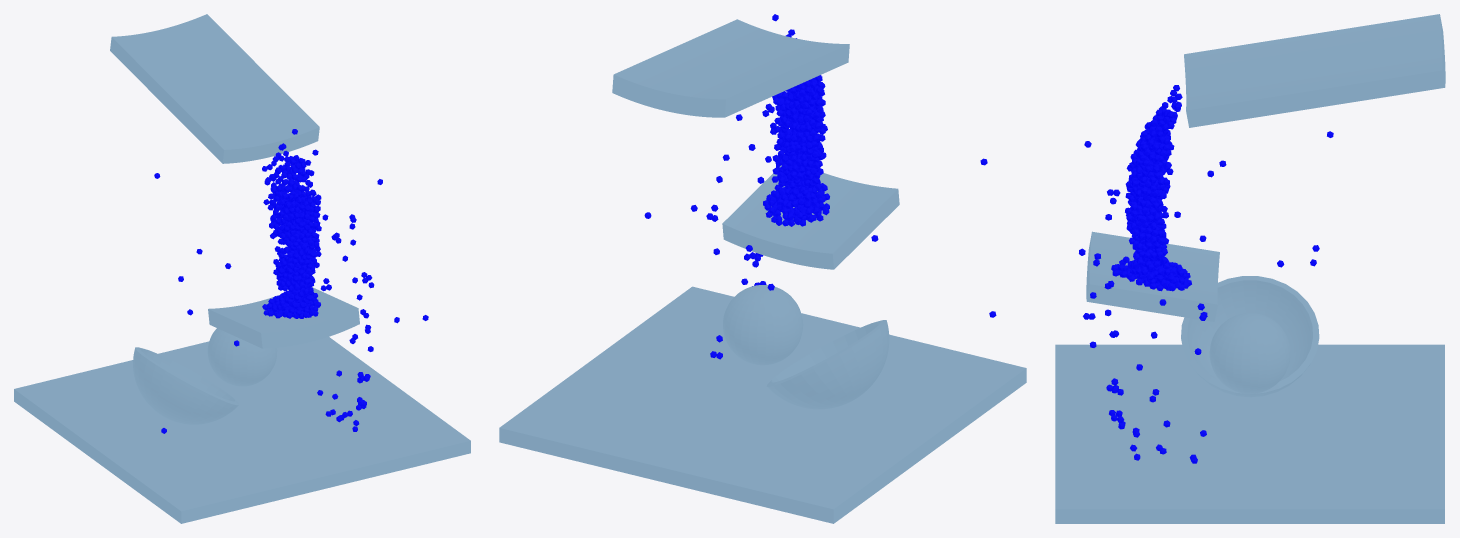
3 views of the same model, side by side, from view 1: azimuth 30°, elevation 25°; view 2: azimuth 150°, elevation 25°; view 3: azimuth 270°, elevation 25° (orthographic). The views are drawn at different scales.
Bounding box in the file's own units: 12 × 13.58 × 12.02.
